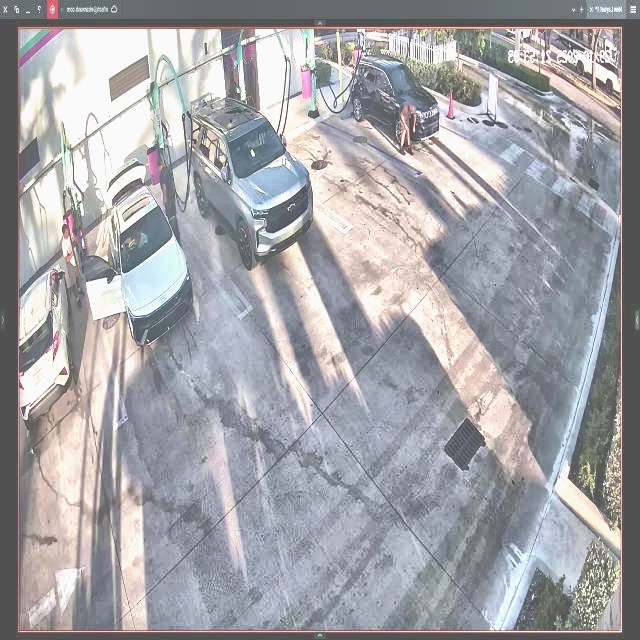Car: (189, 98, 315, 262), (93, 159, 193, 343), (349, 54, 441, 147)
